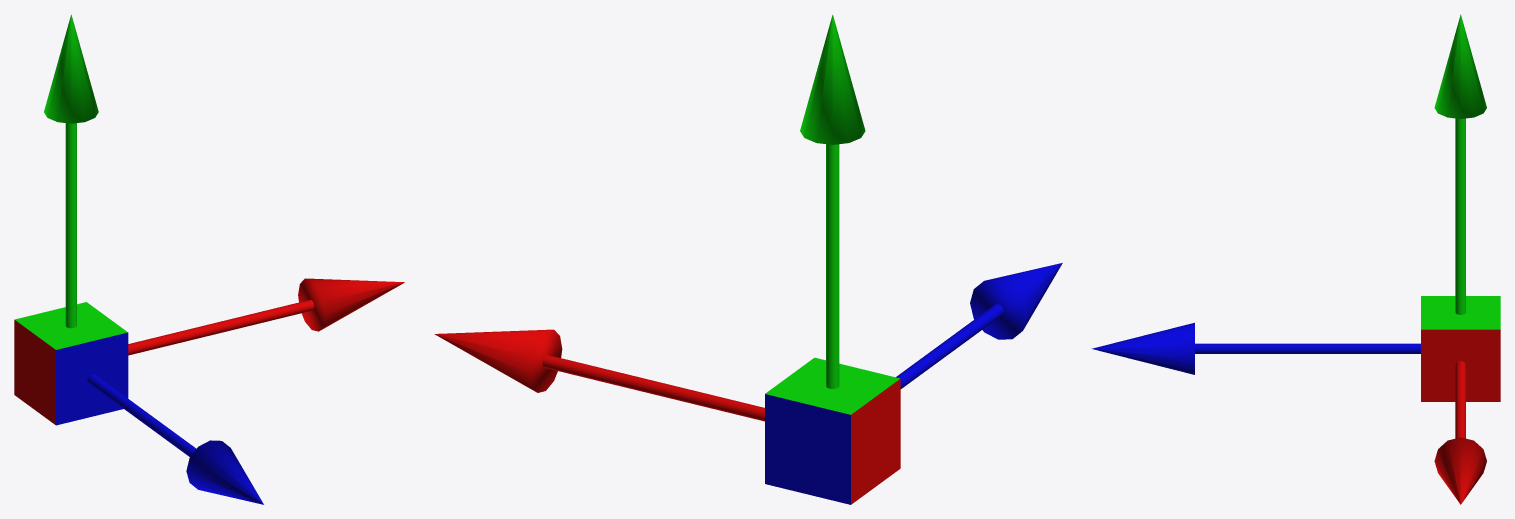
Rendered from gnomon.gltf.
The picture shows the model from 3 angles, left to right: view 1: azimuth 30°, elevation 25°; view 2: azimuth 150°, elevation 25°; view 3: azimuth 270°, elevation 25°; orthographic projection. The views are drawn at different scales.
Visible parts, largest first — view 1: red; view 2: red; view 3: red.
Part boxes in pixels (x1,y1,x2,y2): red: [14, 14, 404, 504]; red: [434, 14, 1062, 504]; red: [1091, 14, 1500, 504].
Bounding box in the file's own units: 1.54 × 1.54 × 1.54.
